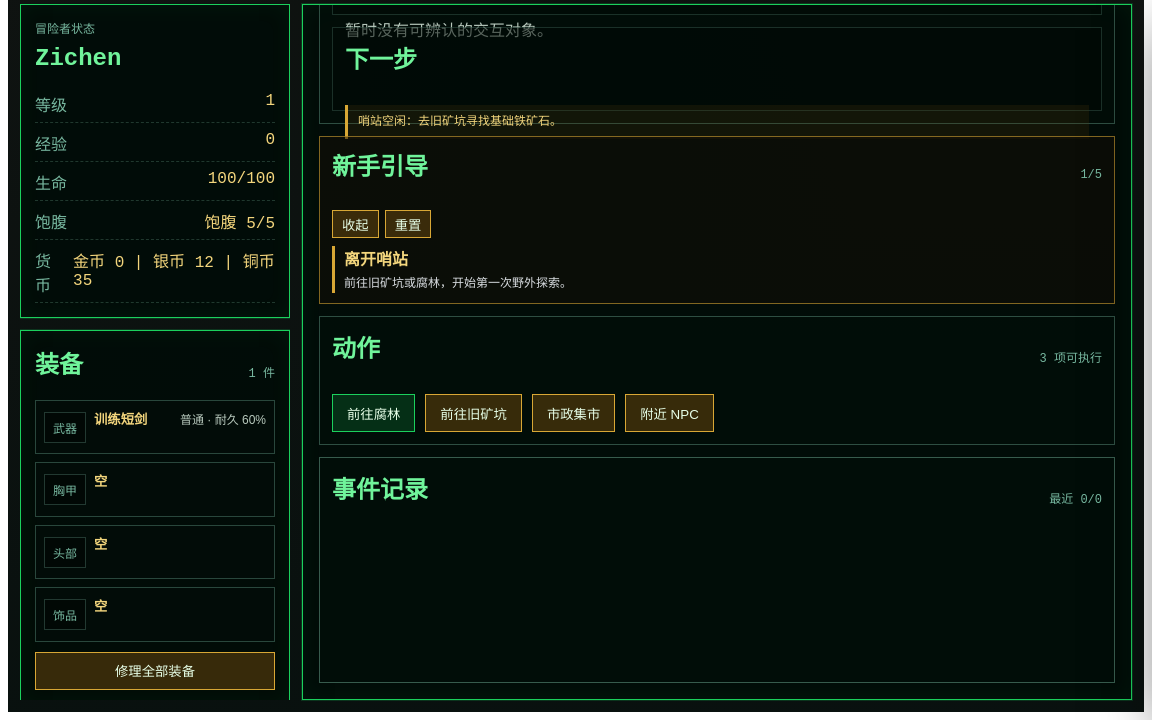
Test: GameShell › keeps the market dialog open and shows the failed trade context
(page scrolled)
Click the button "市政集市": (574, 413) [532,394,615,432]
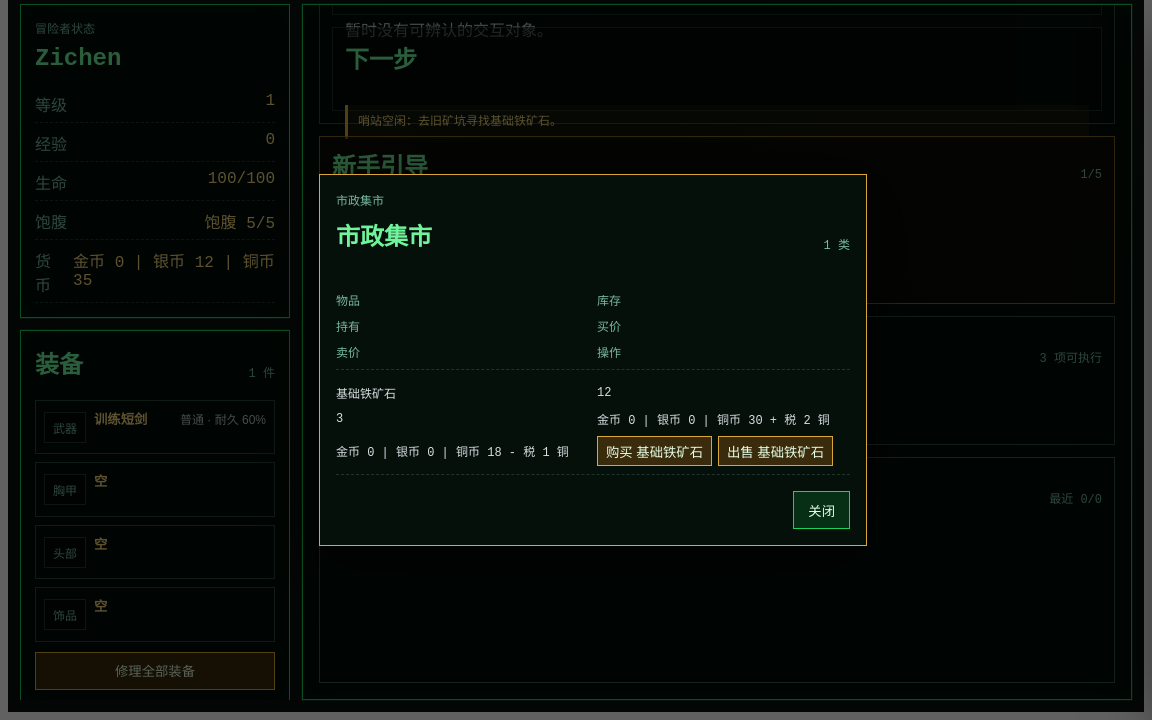
Click the button "购买 基础铁矿石": (654, 452) [597,436,712,466]
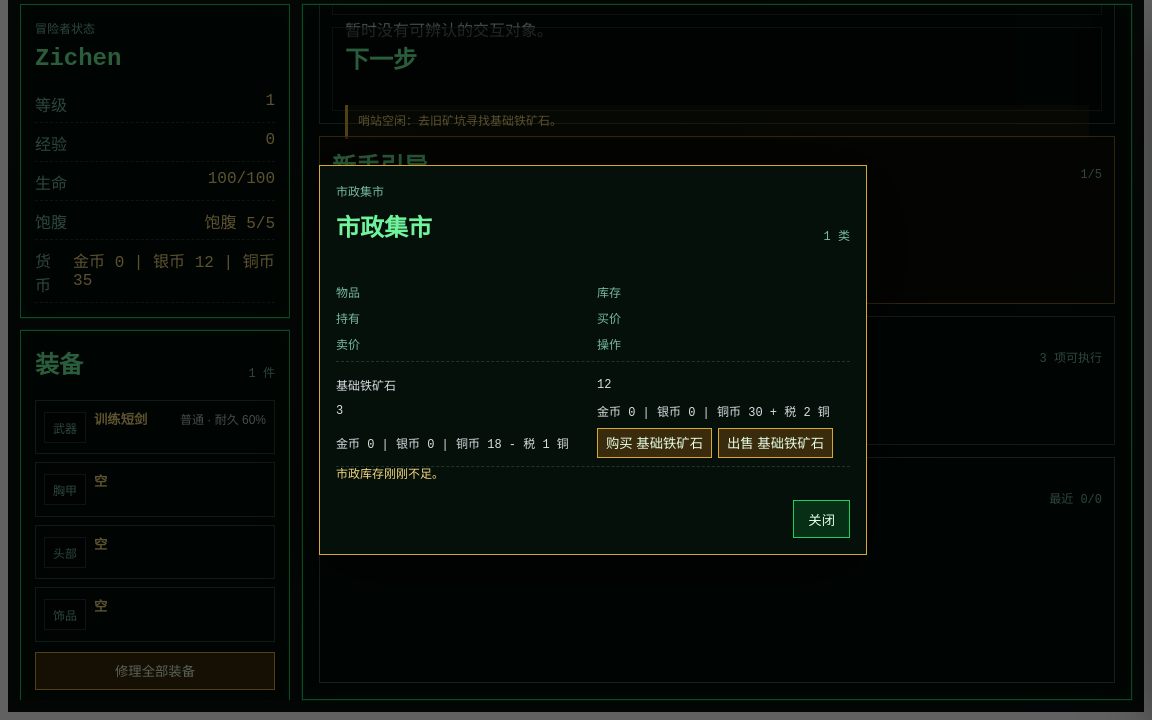
Check: the dialog "市政集市" is shown, box [319,165,867,555]
Check: the text "市政库存刚刚不足。" is shown, box [336,468,444,482]
